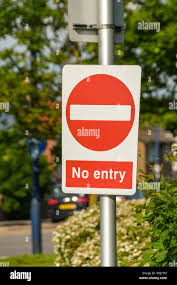No entry: (66, 75, 134, 151)
